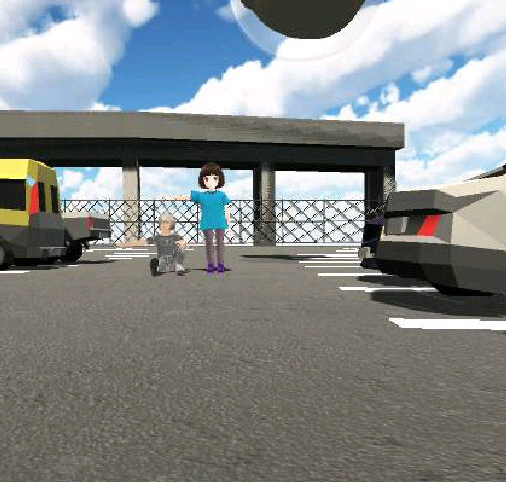doubleP_left: (111, 164, 233, 278)
